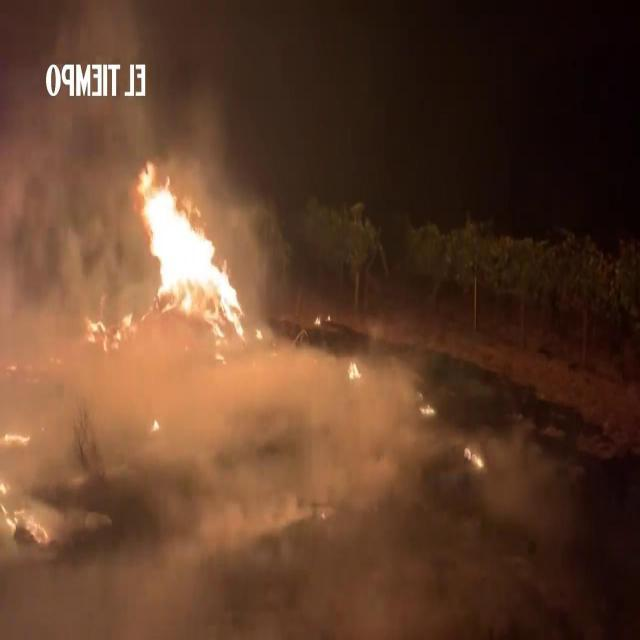Fire: (123, 154, 248, 353), (80, 306, 111, 354), (9, 509, 45, 542), (344, 350, 362, 388), (462, 446, 484, 474)
Smoke: (6, 126, 84, 512)
